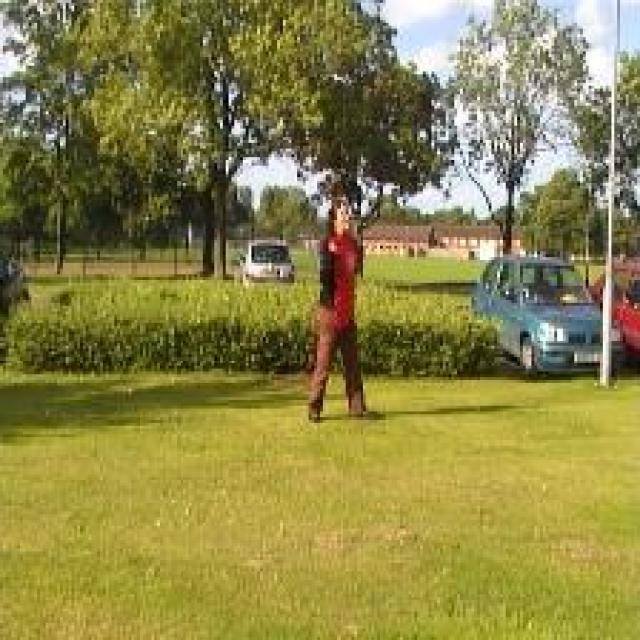other: (324, 227, 361, 329)
